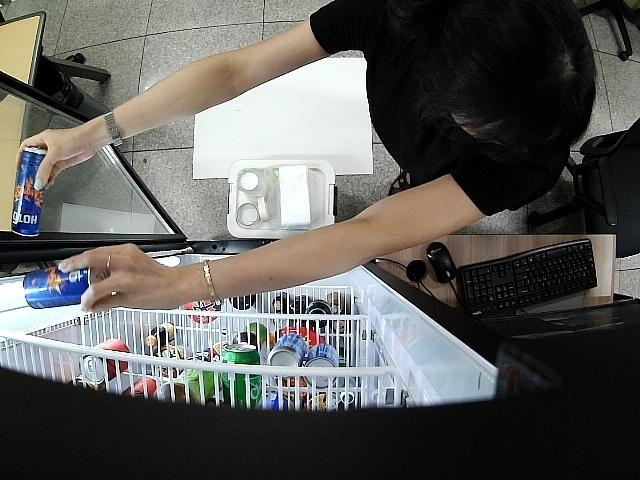16_hot6: (22, 266, 116, 308), (11, 146, 52, 240)
